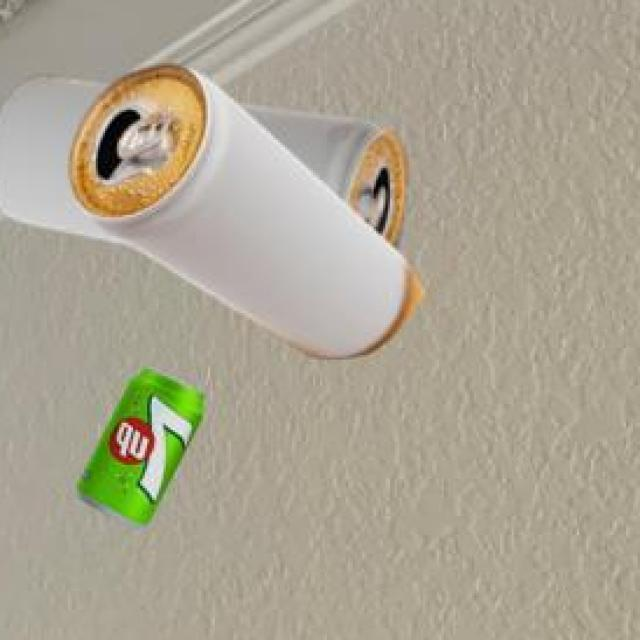logam: (67, 67, 422, 363), (141, 93, 405, 253), (0, 81, 141, 246), (74, 373, 200, 531)
